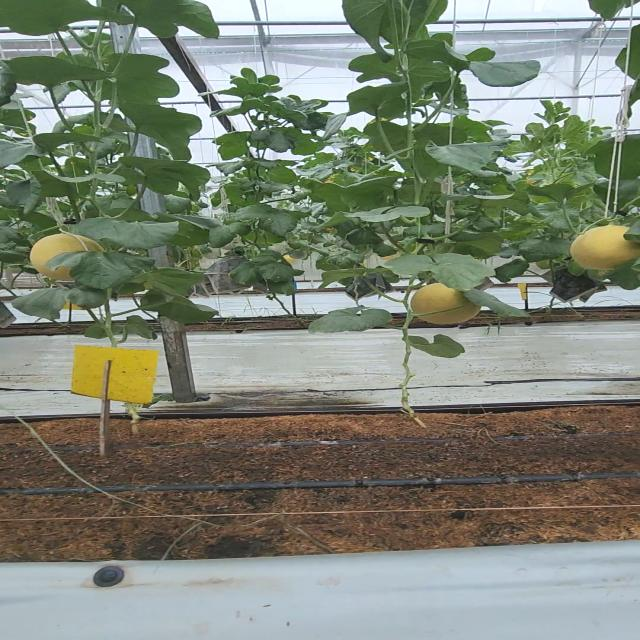Melon: (404, 282, 489, 332), (28, 234, 112, 284), (567, 226, 640, 274)
